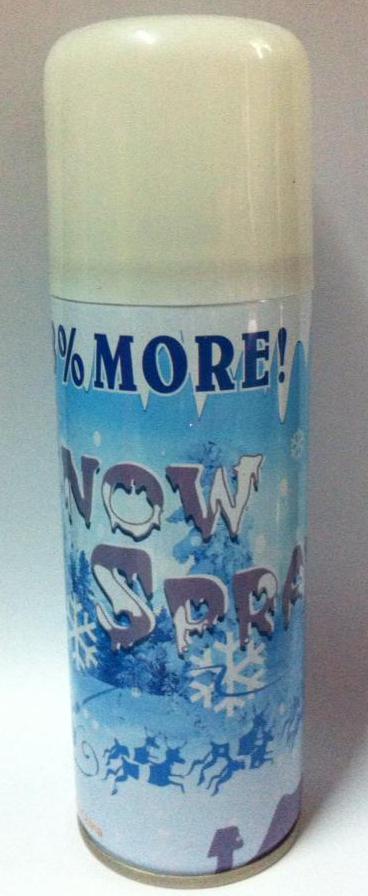Aerosol_cans: (36, 9, 318, 896)
